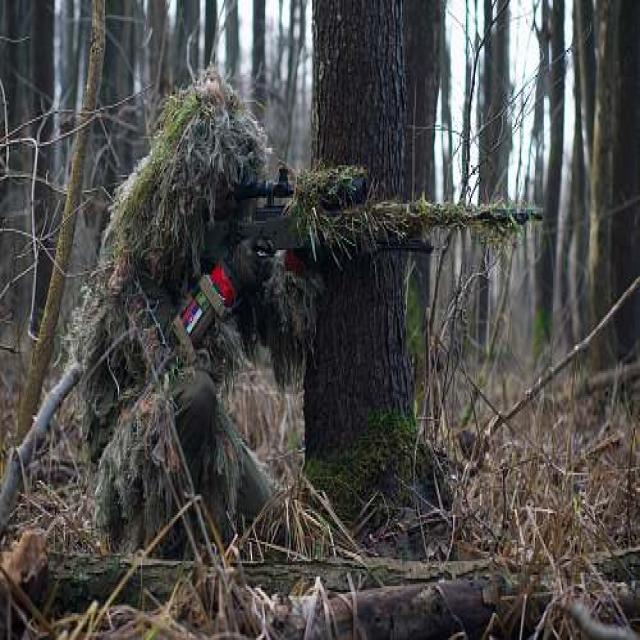Camouflage: (73, 74, 542, 556)
